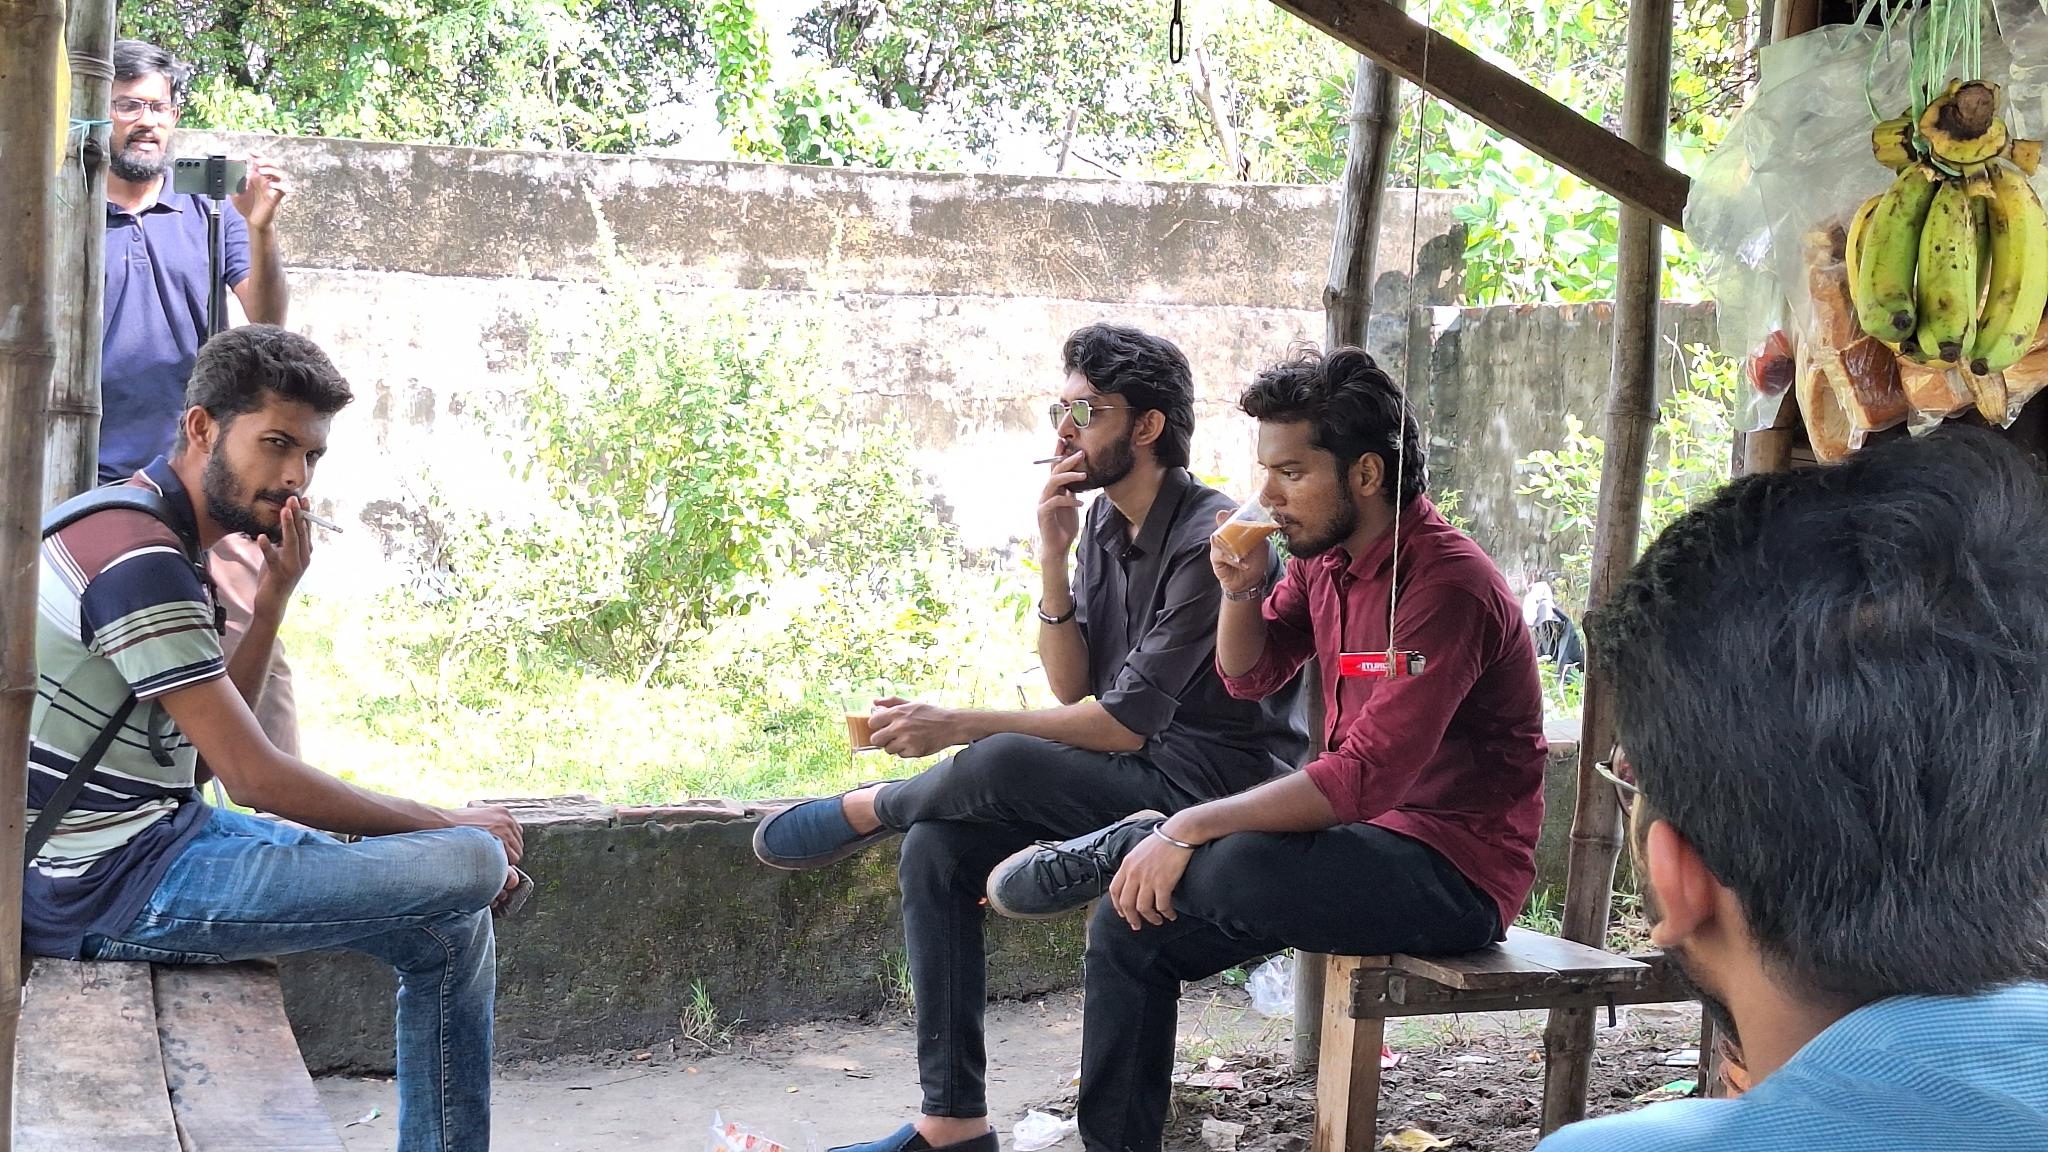cigarette: (295, 506, 346, 537), (1030, 452, 1069, 468)
nonSmoker: (987, 347, 1546, 1152), (1519, 425, 2048, 1152), (91, 38, 287, 482)
smoker: (750, 315, 1255, 1152), (38, 322, 535, 1152)
